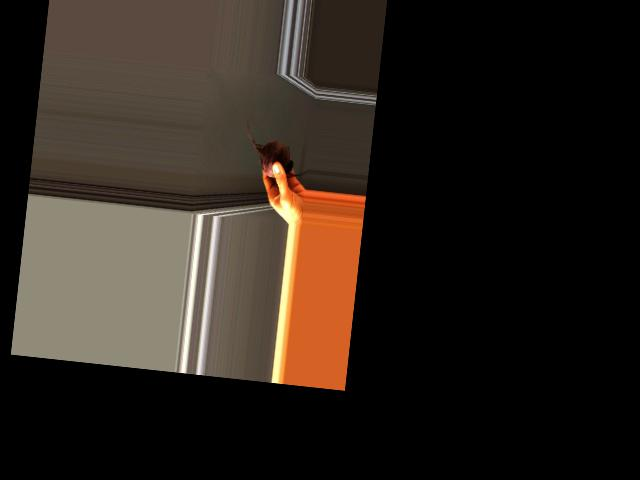beet: (241, 118, 313, 181)
